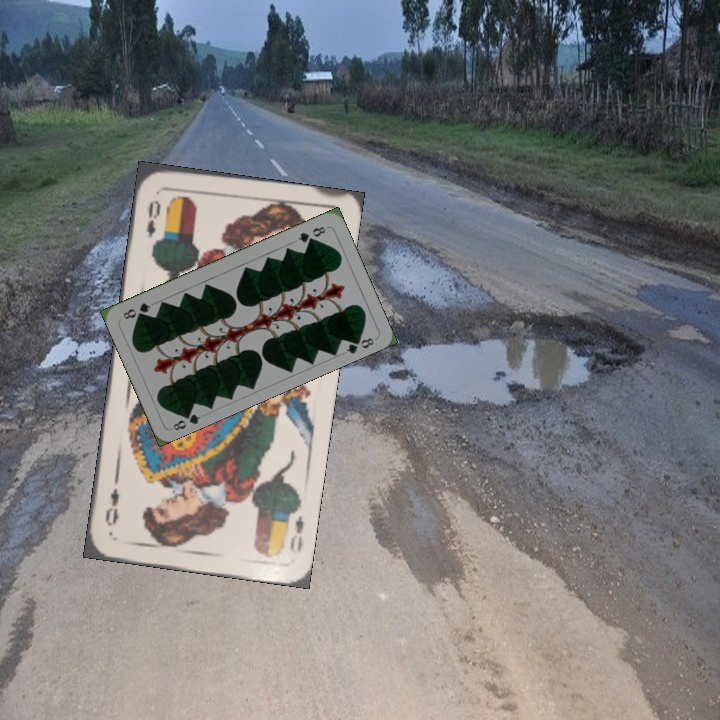EO: (143, 196, 164, 240), (286, 511, 307, 554)
G8: (169, 406, 203, 433), (294, 222, 328, 245)
